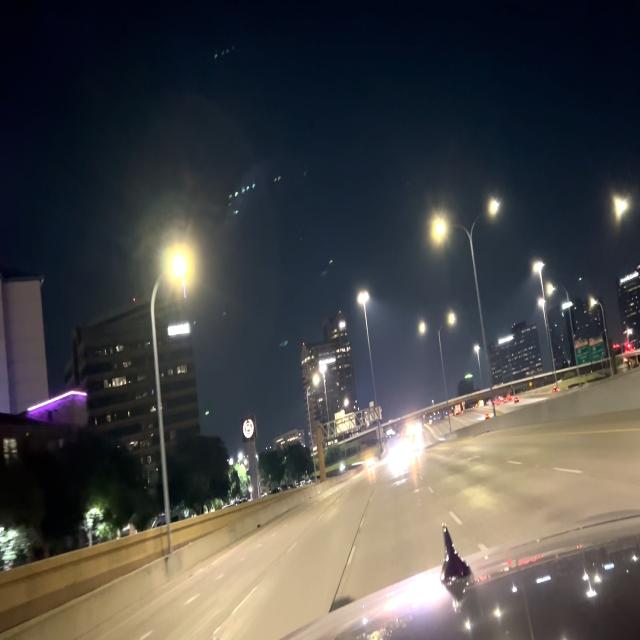back-of-sign: (334, 408, 357, 435), (364, 401, 383, 427)
